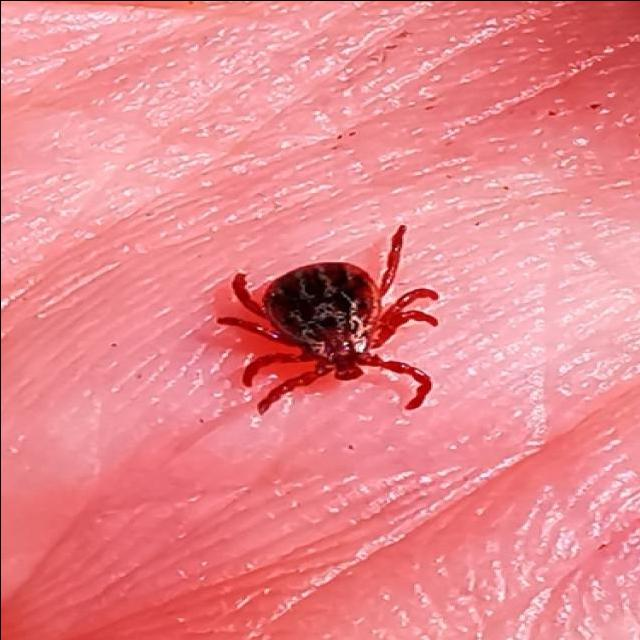Dermacentor Reticulatus-M: (218, 224, 437, 415)
